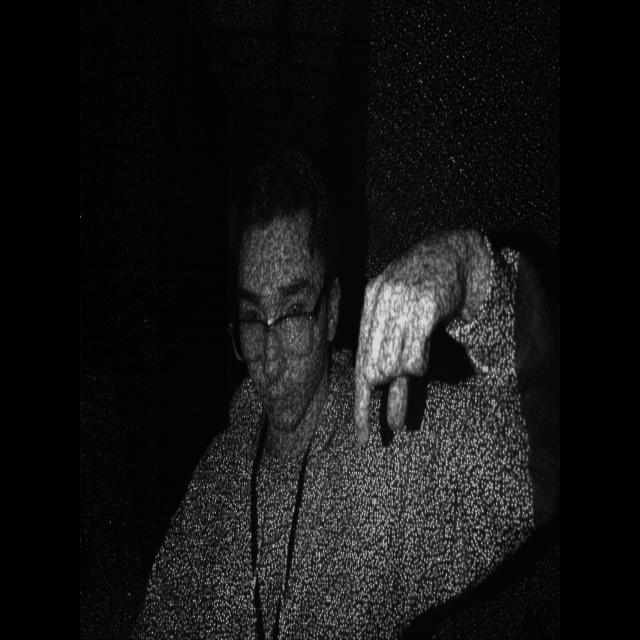Q: (352, 262, 420, 432)
